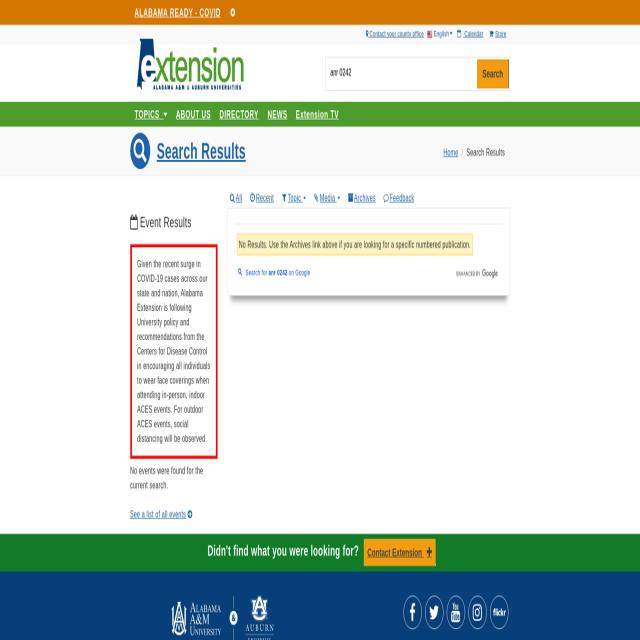button: (168, 589, 277, 640), (137, 39, 243, 90), (130, 0, 225, 25), (364, 539, 436, 566), (292, 102, 343, 126), (215, 102, 262, 126), (172, 102, 215, 126), (130, 102, 172, 126), (477, 60, 509, 88), (263, 102, 291, 126), (425, 596, 443, 631), (403, 596, 422, 629), (469, 596, 487, 630), (447, 598, 465, 630), (491, 597, 508, 630), (227, 3, 239, 22)
field: (325, 58, 478, 90)
